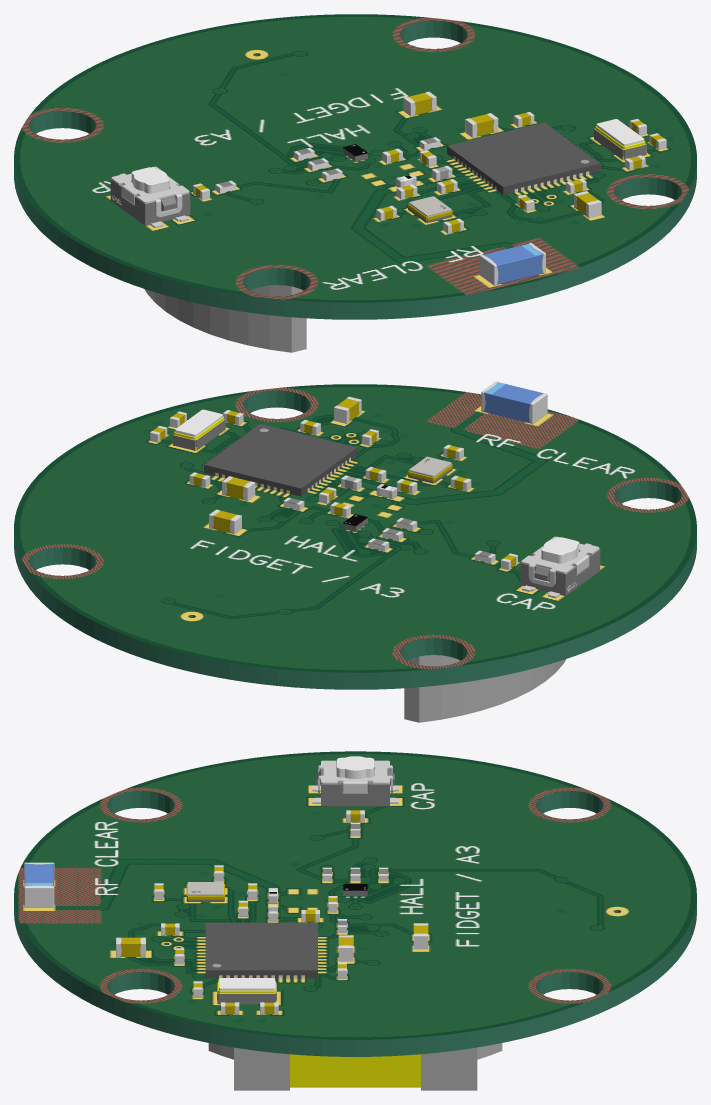
File: pcb-3d.glb
The picture shows the model from 3 angles, top to bottom: view 1: azimuth 30°, elevation 25°; view 2: azimuth 150°, elevation 25°; view 3: azimuth 270°, elevation 25°; orthographic projection.
Parts seen in each view (by area): view 1: Box0, U1, BT1, SW1, ANT1, X2, X1, C9, C15, C10; view 2: Box0, U1, BT1, SW1, ANT1, X2, X1, C9, C15, C10; view 3: Box0, BT1, U1, SW1, X2, ANT1, X1, C10.
Part boxes in pixels (bbox=[...]): Box0: bbox=[14, 14, 696, 319]; U1: bbox=[447, 122, 600, 194]; BT1: bbox=[144, 285, 306, 352]; SW1: bbox=[110, 166, 190, 228]; ANT1: bbox=[479, 242, 545, 285]; X2: bbox=[594, 119, 646, 160]; X1: bbox=[408, 196, 452, 223]; C9: bbox=[465, 113, 498, 137]; C15: bbox=[403, 91, 436, 116]; C10: bbox=[574, 191, 601, 218]; Box0: bbox=[14, 384, 696, 689]; U1: bbox=[204, 423, 357, 496]; BT1: bbox=[404, 655, 566, 722]; SW1: bbox=[520, 536, 600, 598]; ANT1: bbox=[481, 381, 547, 424]; X2: bbox=[172, 409, 225, 450]; X1: bbox=[408, 456, 452, 483]; C9: bbox=[222, 476, 255, 500]; C15: bbox=[209, 509, 241, 534]; C10: bbox=[334, 396, 361, 423]; Box0: bbox=[14, 751, 696, 1056]; BT1: bbox=[208, 1043, 502, 1090]; U1: bbox=[205, 922, 317, 978]; SW1: bbox=[312, 756, 398, 806]; X2: bbox=[217, 978, 276, 1004]; ANT1: bbox=[24, 862, 54, 907]; X1: bbox=[186, 882, 224, 901]; C10: bbox=[116, 937, 145, 957].
Size of the model in its own units: 36.5 by 8.23 by 36.5.
21 materials, 2 textured.
